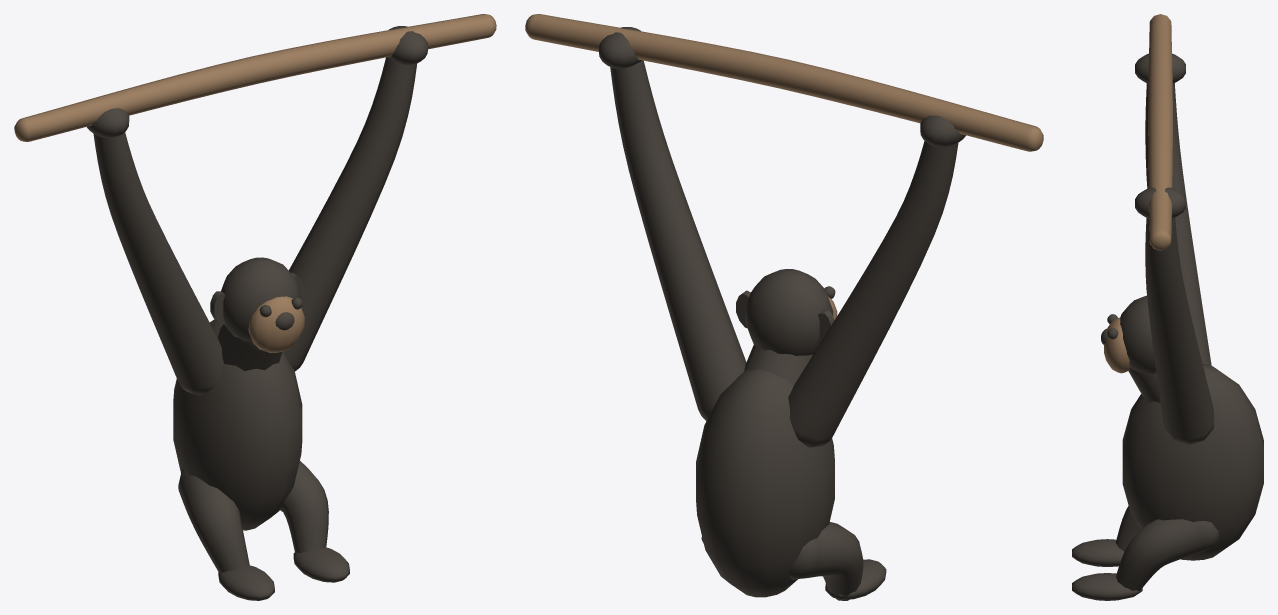
Rendered from rainforest-and-jungle-fauna-gibbon-brachiating-e6d6beae__21679.glb.
3 renders of one model, left to right at view 1: azimuth 30°, elevation 25°; view 2: azimuth 150°, elevation 25°; view 3: azimuth 270°, elevation 25°, orthographic. The views are drawn at different scales.
Visible parts, largest first — view 1: gibbon-brachiating; view 2: gibbon-brachiating; view 3: gibbon-brachiating.
Part boxes in pixels (box(x1,y1,x2,y2)): gibbon-brachiating: box(14, 14, 496, 600); gibbon-brachiating: box(525, 14, 1043, 600); gibbon-brachiating: box(1072, 14, 1263, 600).
Bounding box in the file's own units: 1.47 × 1.48 × 0.5501.
